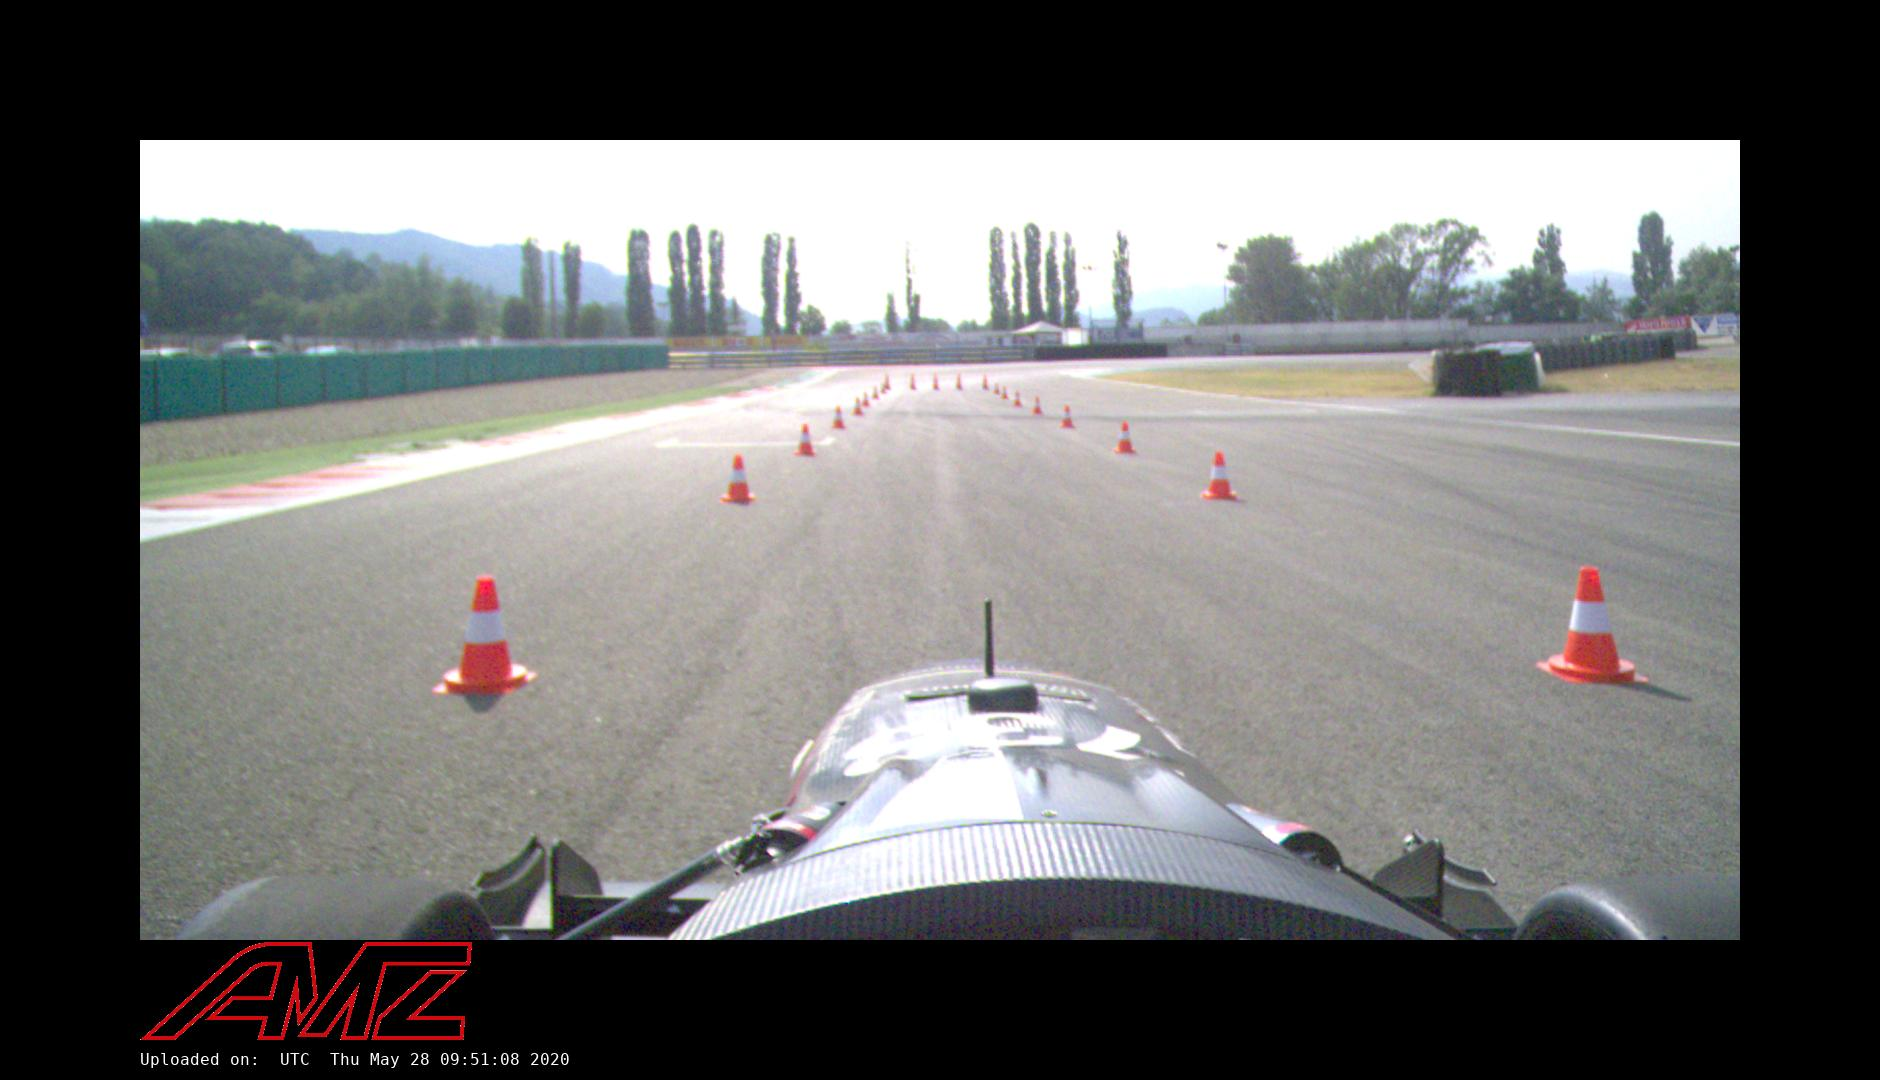large_orange_cone: (882, 373, 894, 390), (931, 373, 941, 389), (908, 375, 917, 389), (955, 375, 965, 389), (981, 375, 989, 388)
orange_cone: (1531, 565, 1650, 683), (436, 574, 536, 698), (1200, 450, 1240, 501), (720, 453, 755, 505), (1110, 420, 1138, 453), (794, 424, 817, 455), (830, 406, 847, 430), (1057, 406, 1076, 428), (850, 397, 864, 416), (1030, 397, 1043, 413), (859, 391, 872, 407), (1012, 391, 1024, 406), (872, 386, 881, 399), (878, 382, 887, 394), (1001, 388, 1010, 399), (993, 382, 1001, 393)
